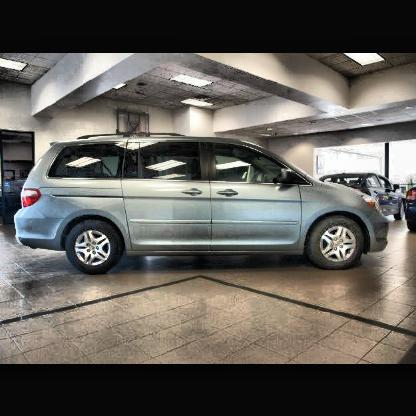Honda Odyssey Minivan 2007: (14, 131, 392, 278)
